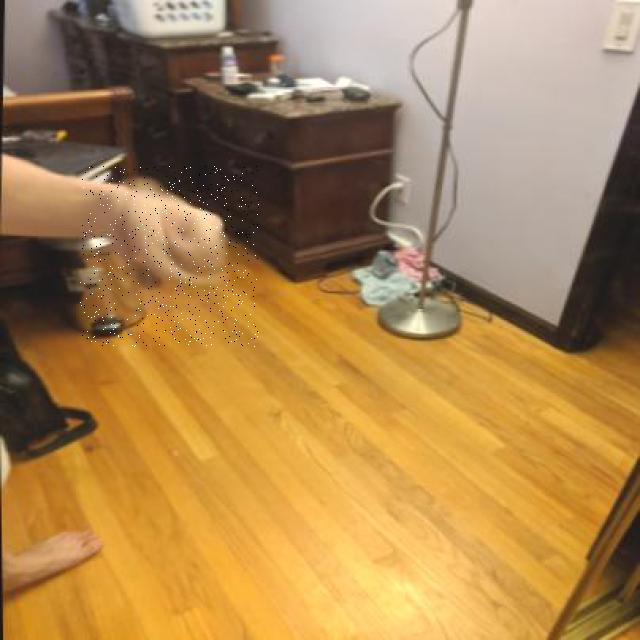J: (80, 166, 259, 347)
